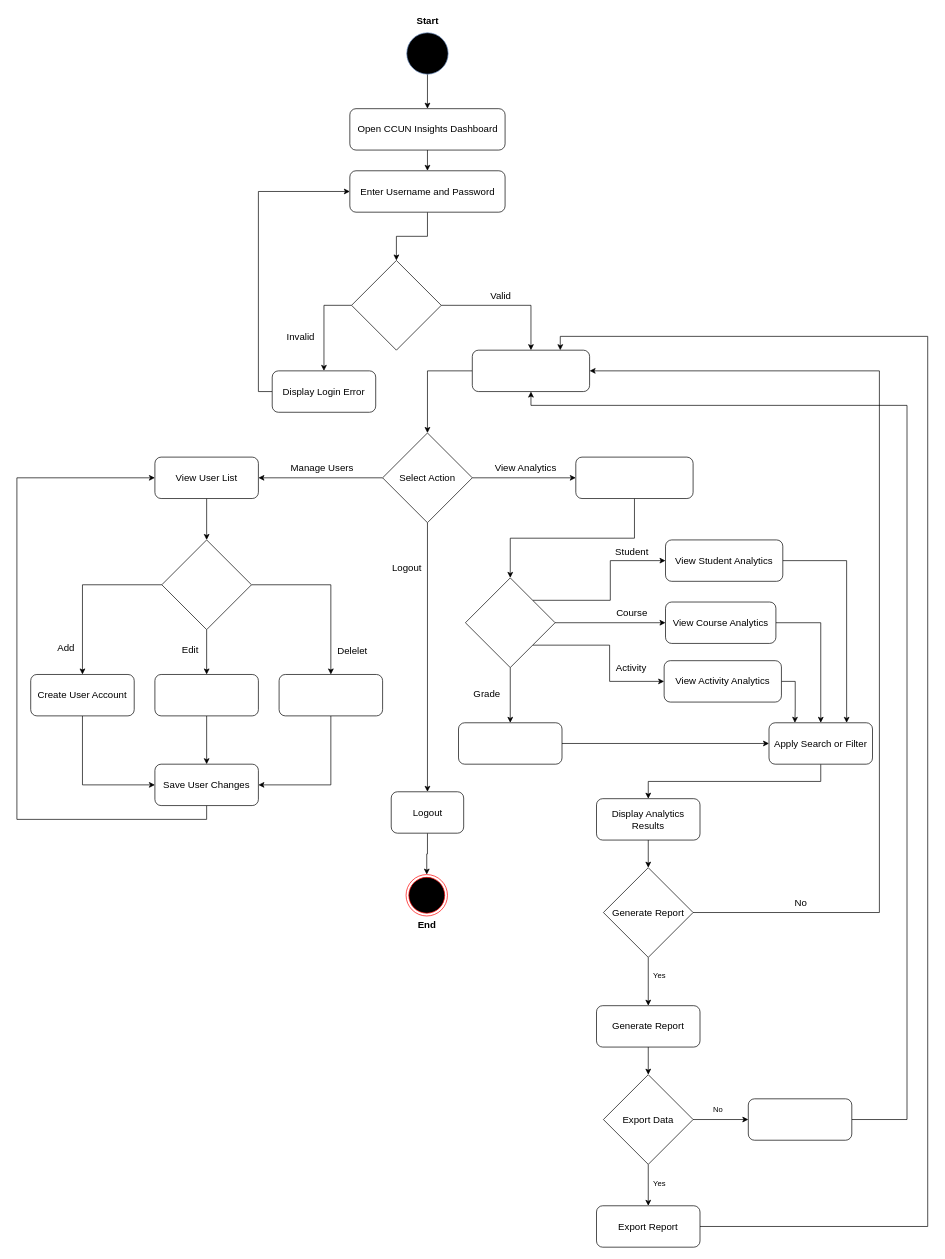
Some shapes in this 945 by 1259 pixel diagram are drawn without their labels. Here are the shapes that lost their labels. From the top down, the centre of each, then its label:
the point at 396,305: Validate Login
the point at 531,370: Display Admin Dashboard
the point at 634,477: Select Analytics Module
the point at 206,584: Select User Operation
the point at 510,622: Select Module
the point at 206,695: Update User Information
the point at 330,695: Remove User Account
the point at 510,743: View Grade Analytics
the point at 800,1119: View Report
